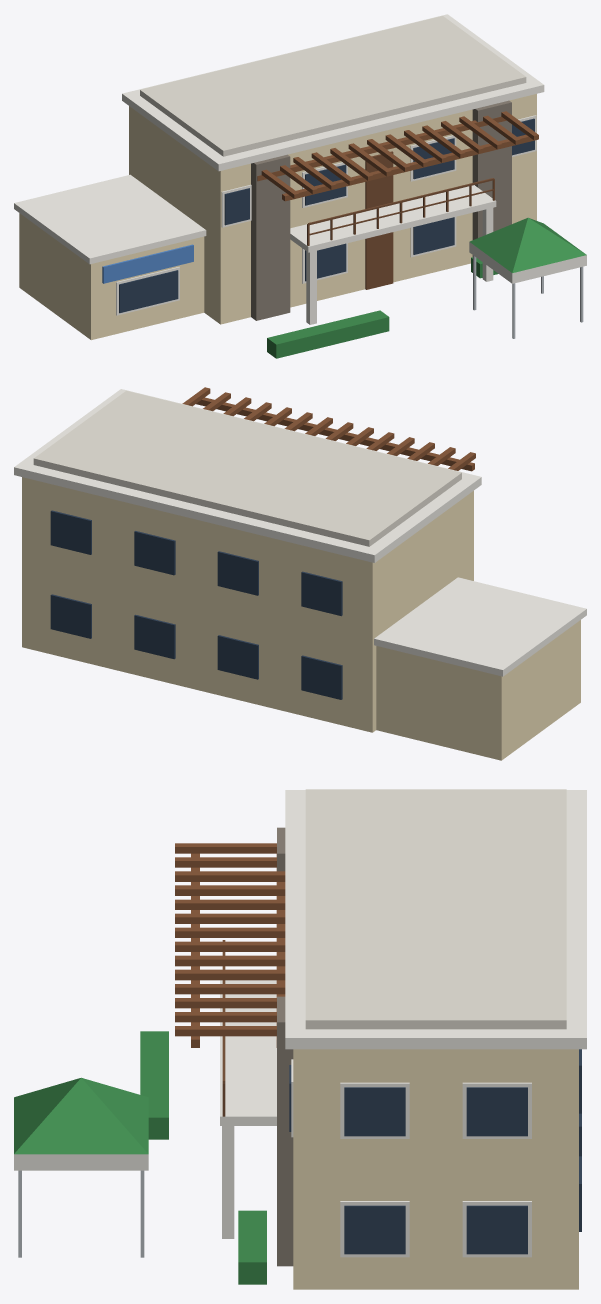
File: LM_CourtBesideTheHall.glb
3 renders of one model, top to bottom at view 1: azimuth 30°, elevation 25°; view 2: azimuth 150°, elevation 25°; view 3: azimuth 270°, elevation 25°, orthographic. The views are drawn at different scales.
Visible parts, largest first — view 1: LM_CourtBesideTheHall; view 2: LM_CourtBesideTheHall; view 3: LM_CourtBesideTheHall.
Part boxes in pixels (bbox=[...]): LM_CourtBesideTheHall: bbox=[14, 14, 586, 358]; LM_CourtBesideTheHall: bbox=[14, 387, 586, 760]; LM_CourtBesideTheHall: bbox=[14, 789, 586, 1289].
Size of the model in its own units: 19.35 by 7.15 by 14.05.
